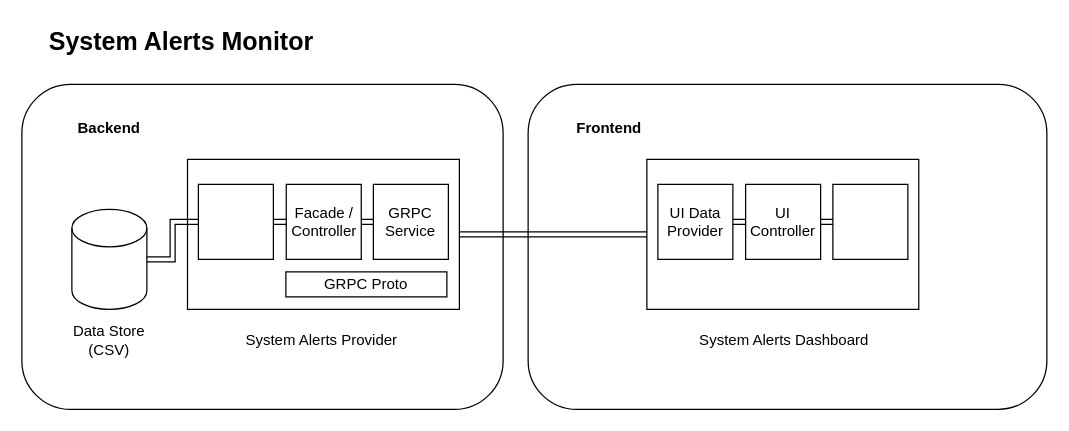
The diagram is 1069 pixels wide and 431 high, and some of its shapes have lost their labels. The box of each missing label's shape, as (x1, y1, x2, y2) in pixels:
Data Access Layer: (197, 183, 273, 259)
User Interface: (832, 183, 908, 259)
